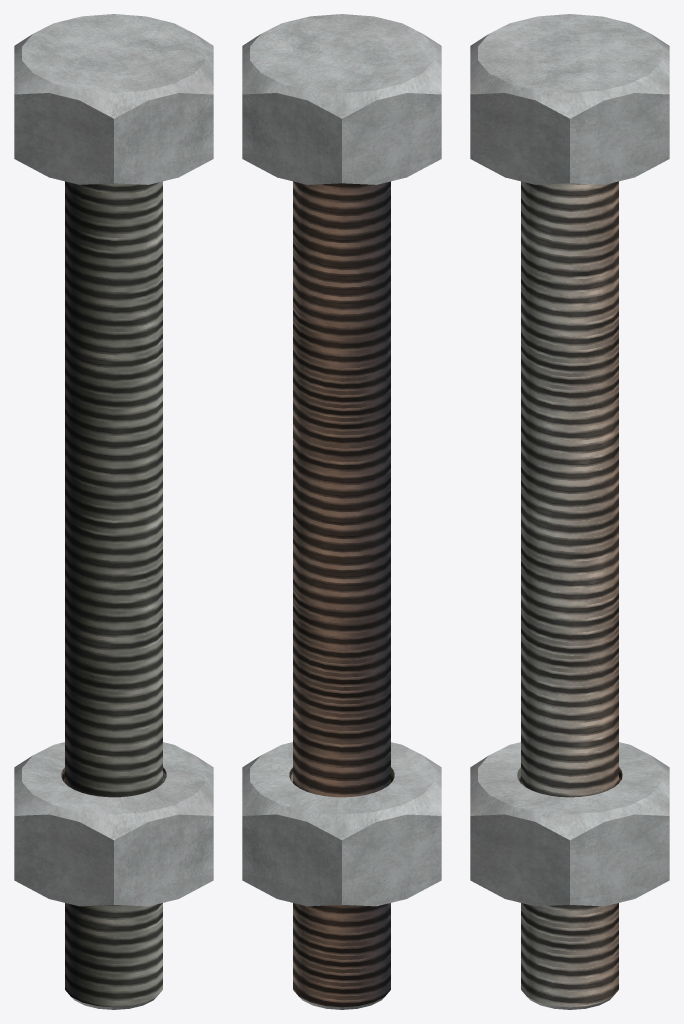
The model's file is baut low poly with texture.fbx.
3 views of the same model, side by side, from view 1: azimuth 30°, elevation 25°; view 2: azimuth 150°, elevation 25°; view 3: azimuth 270°, elevation 25° (orthographic).
Visible parts, largest first — view 1: Cube.003, Cube.004; view 2: Cube.003, Cube.004; view 3: Cube.003, Cube.004.
Part boxes in pixels (x1=…): Cube.003: x1=14, y1=14, x2=213, y2=1009; Cube.004: x1=14, y1=742, x2=213, y2=906; Cube.003: x1=242, y1=14, x2=441, y2=1009; Cube.004: x1=242, y1=742, x2=441, y2=906; Cube.003: x1=470, y1=14, x2=669, y2=1009; Cube.004: x1=470, y1=742, x2=669, y2=906.
Size of the model in its own units: 0.0239 by 0.1076 by 0.0207.
Materials: 2 (2 with a texture image).
